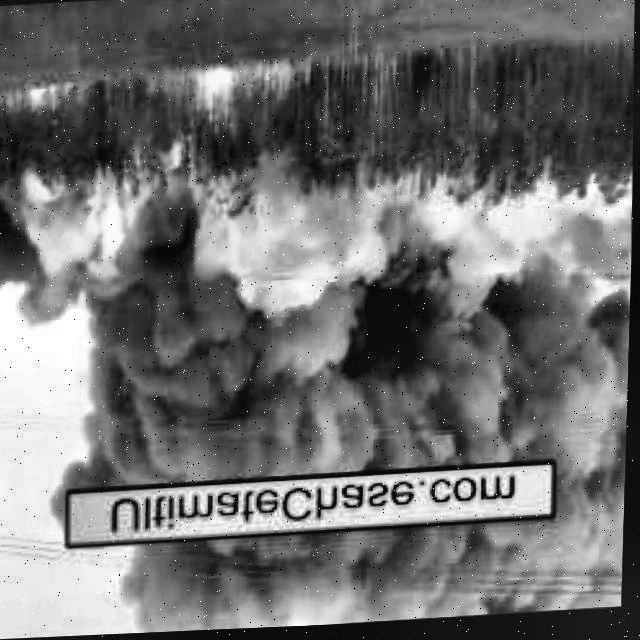Fire: (83, 147, 189, 294), (192, 72, 237, 129), (31, 83, 64, 117), (268, 64, 298, 91)
Smoke: (72, 169, 636, 498), (125, 526, 627, 635)
